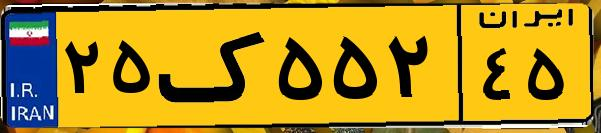2: (385, 28, 445, 110), (57, 26, 110, 100)
4: (475, 38, 525, 113)
5: (270, 28, 330, 110), (330, 28, 385, 110), (525, 38, 570, 115), (110, 28, 158, 98)
ک: (158, 12, 270, 120)
